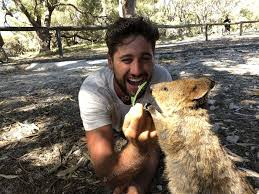quokka: (143, 76, 257, 194)
